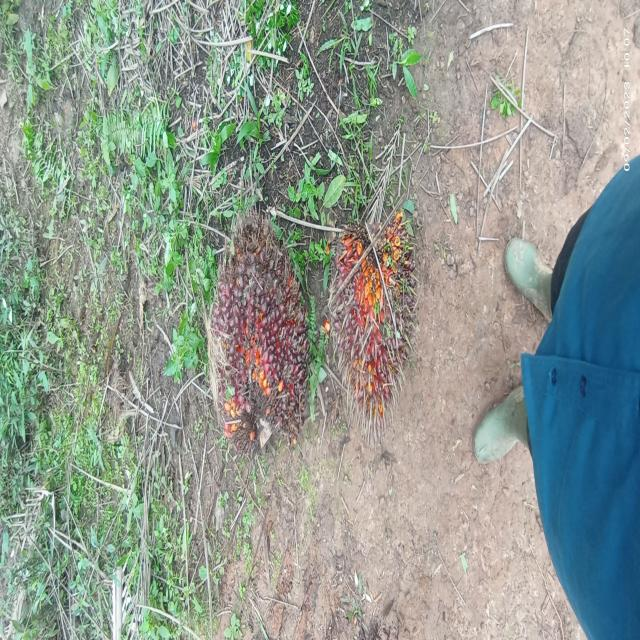fraksi 3: (178, 171, 319, 490), (311, 123, 448, 442)
